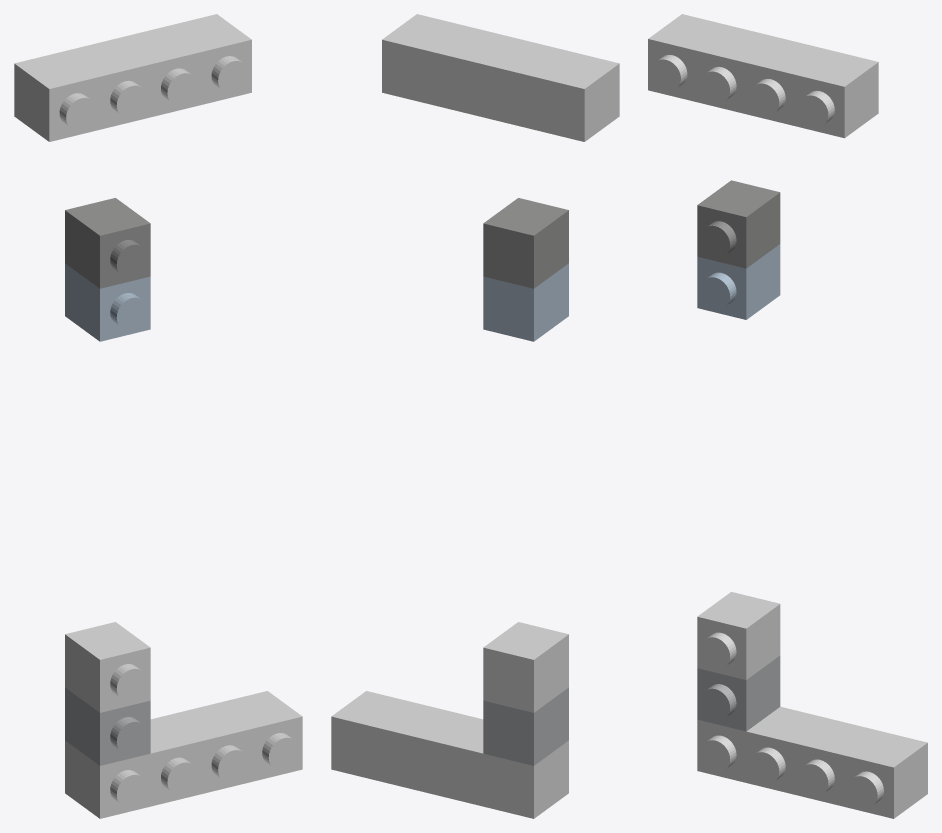
The model's file is current.glb.
3 renders of one model, left to right at view 1: azimuth 30°, elevation 25°; view 2: azimuth 150°, elevation 25°; view 3: azimuth 330°, elevation 25°, orthographic. The views are drawn at different scales.
Visible parts, largest first — view 1: world; view 2: world; view 3: world.
Boxes of the visible parts, left/top/right/bottom form: world: left=14, top=14, right=302, bottom=818; world: left=331, top=14, right=619, bottom=818; world: left=648, top=14, right=927, bottom=818.
Size of the model in its own units: 40 by 112 by 11.4.
